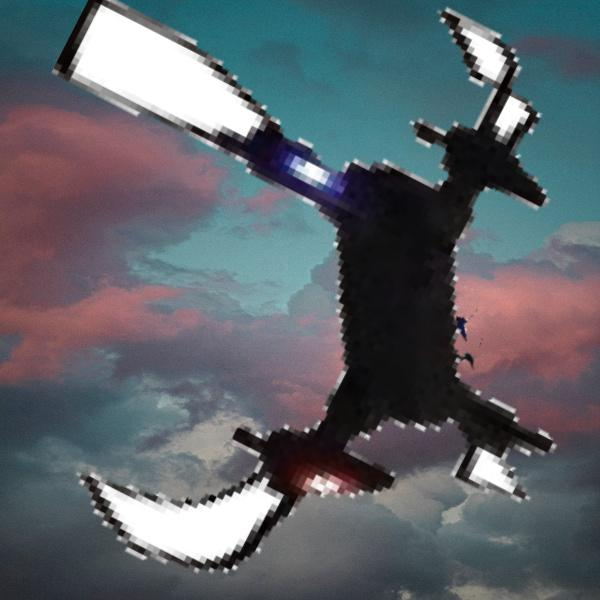drone: (380, 278, 497, 395)
